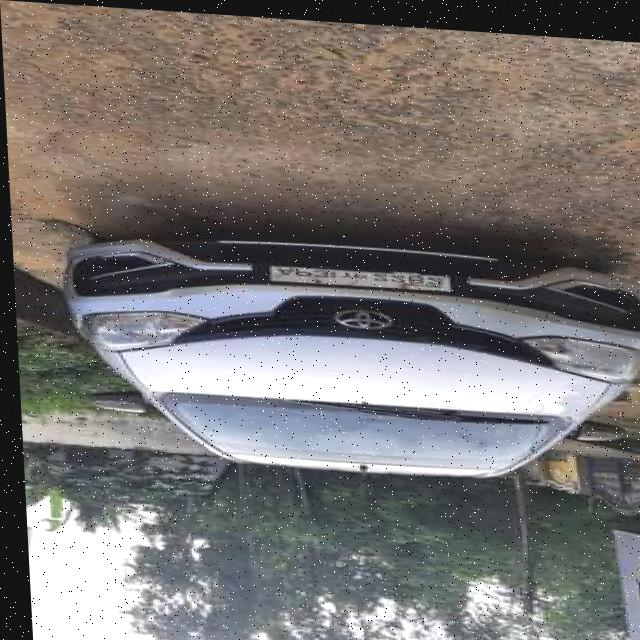plate: (266, 258, 452, 288)
